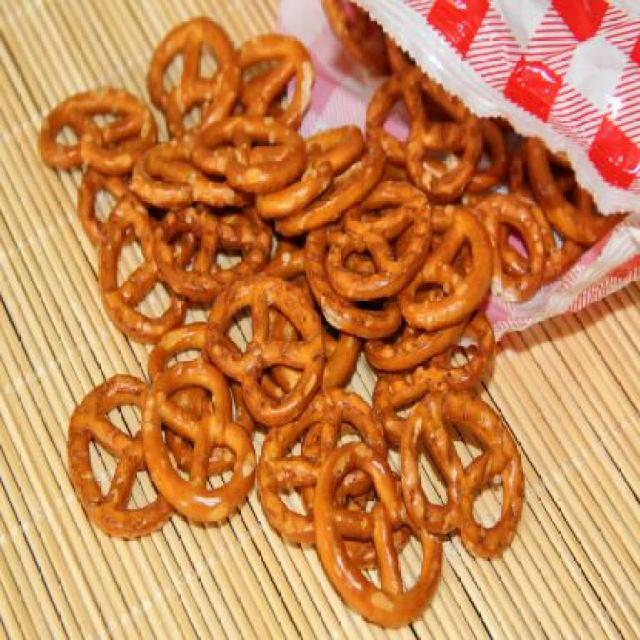Salatini packaged: (40, 21, 528, 624)
